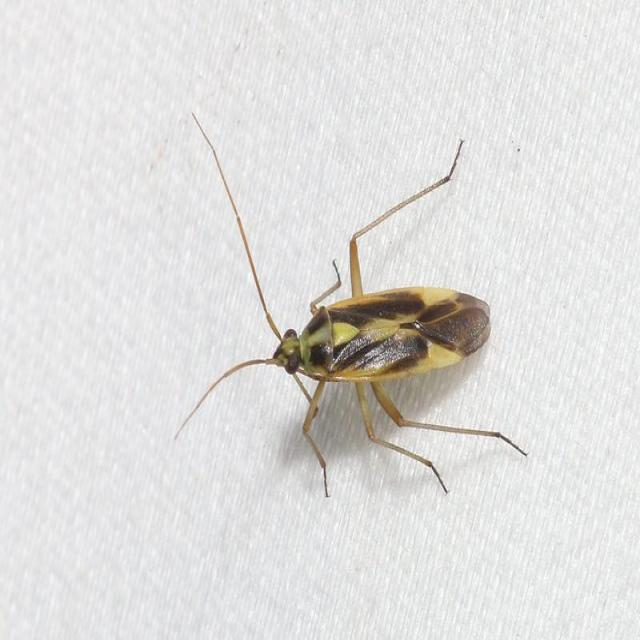Miridae-Adult-: (120, 86, 538, 518)
